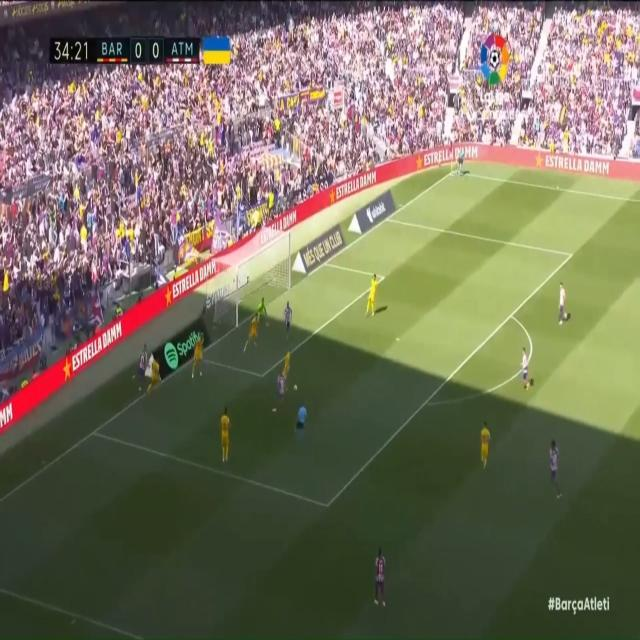ball: (292, 381, 300, 397)
goalkeeper: (256, 298, 272, 335)
player: (544, 435, 564, 504), (214, 402, 234, 467), (188, 328, 207, 381), (372, 537, 386, 607), (555, 276, 571, 335), (242, 313, 261, 359), (475, 414, 490, 472), (364, 265, 379, 321), (148, 349, 164, 401), (280, 347, 295, 396), (520, 344, 534, 395), (136, 342, 149, 394), (272, 369, 285, 421), (282, 299, 294, 345)
referee: (292, 395, 310, 453), (453, 143, 466, 180)
